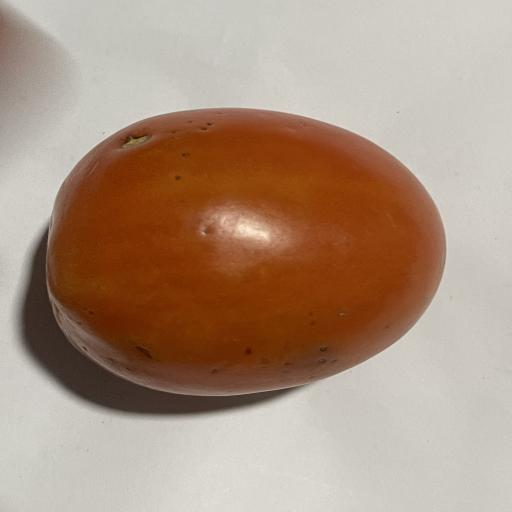unripe: (47, 109, 445, 395)
